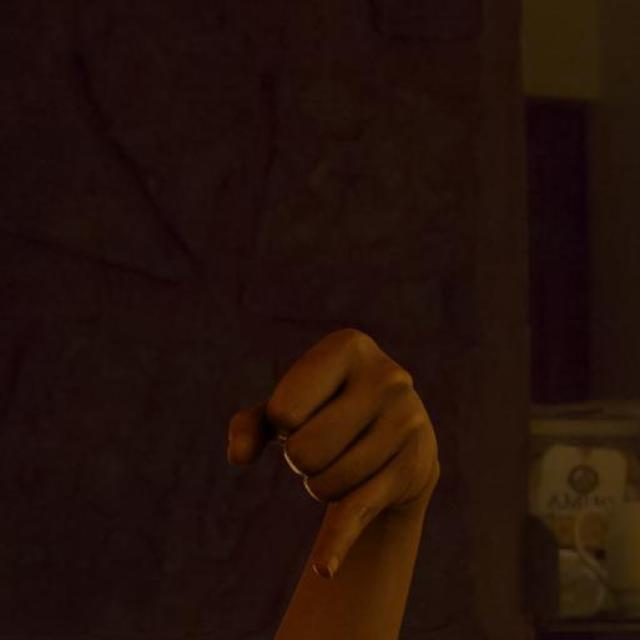J: (194, 310, 473, 640)
